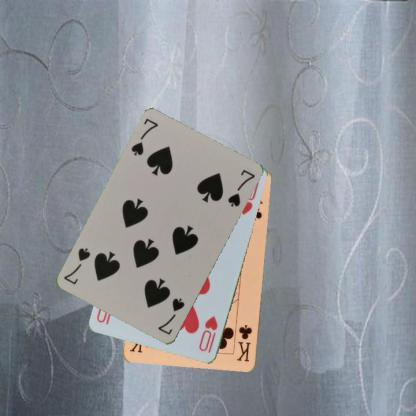10h: (196, 314, 219, 354)
7s: (128, 116, 160, 158), (155, 296, 186, 336)
Kc: (235, 322, 254, 363)
